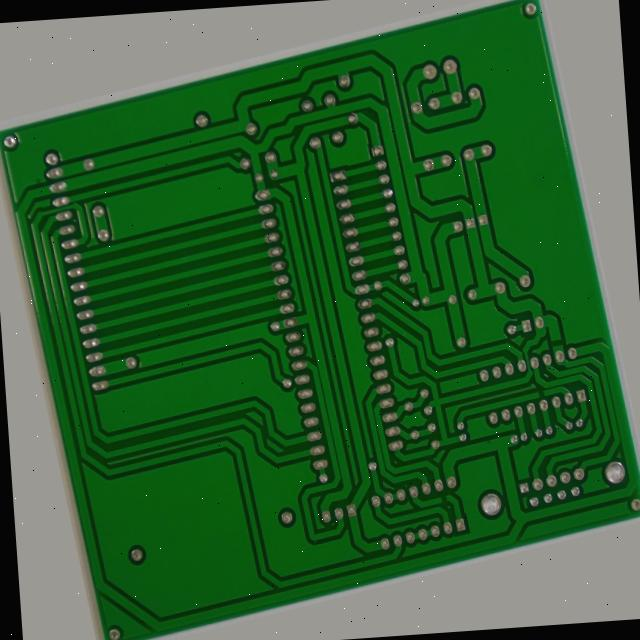open_circuit: (569, 384, 587, 402), (545, 442, 562, 457), (421, 543, 436, 559)
